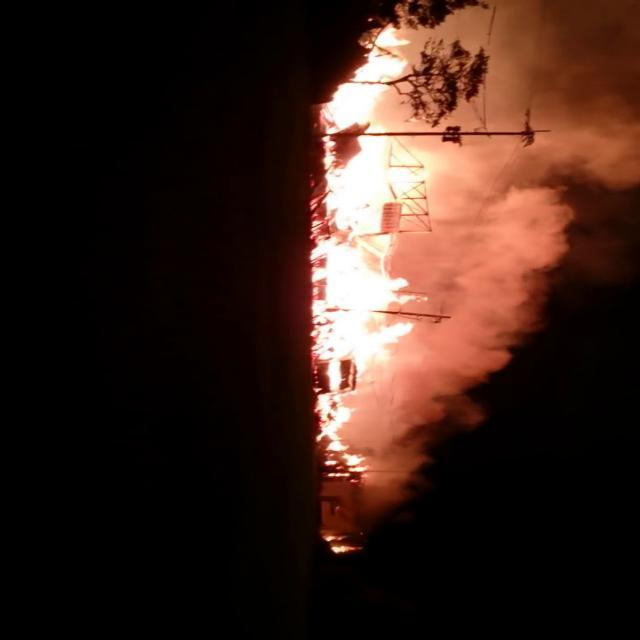Fire: (317, 26, 428, 479), (324, 532, 364, 554)
